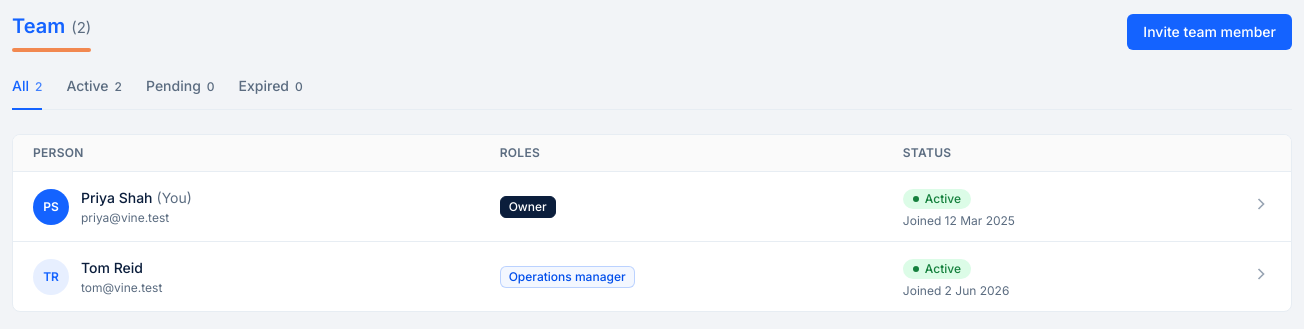
Test case: Team page › says so when a filter has nothing in it
Step 1. Click the button named "Pending 0" → (180, 93), box [146, 76, 215, 110]
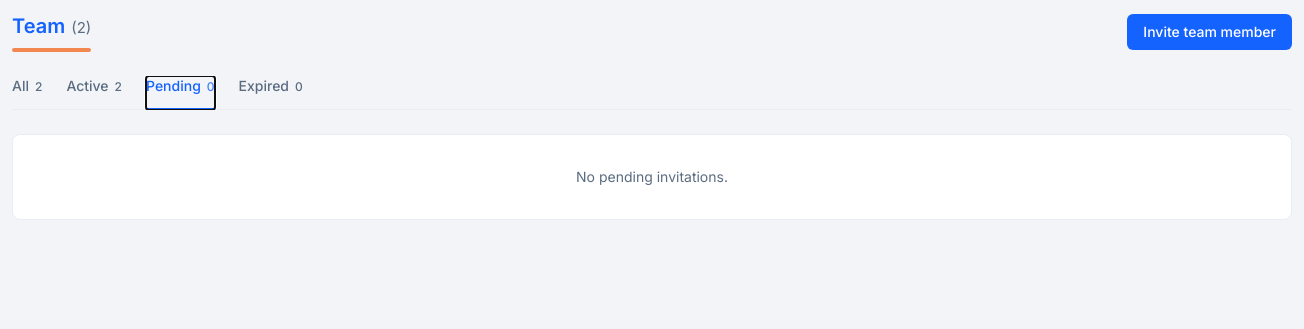
Check: the text "No pending invitations." is shown, box [12, 134, 1292, 220]
